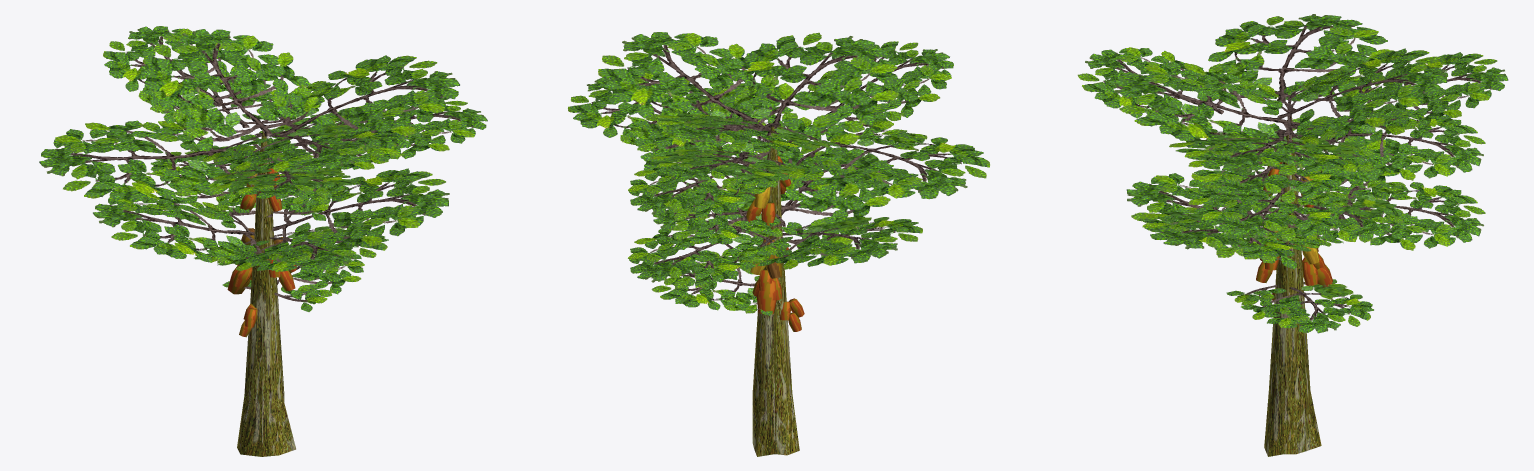
File: cacao.dae
3 renders of one model, left to right at view 1: azimuth 30°, elevation 25°; view 2: azimuth 150°, elevation 25°; view 3: azimuth 270°, elevation 25°, orthographic. The views are drawn at different scales.
Parts seen in each view (by area): view 1: cacao; view 2: cacao; view 3: cacao.
Boxes of the visible parts, bbox=[...] form: cacao: bbox=[39, 26, 487, 456]; cacao: bbox=[568, 32, 989, 456]; cacao: bbox=[1077, 14, 1508, 456].
Size of the model in its own units: 18.54 by 16.46 by 14.59.
